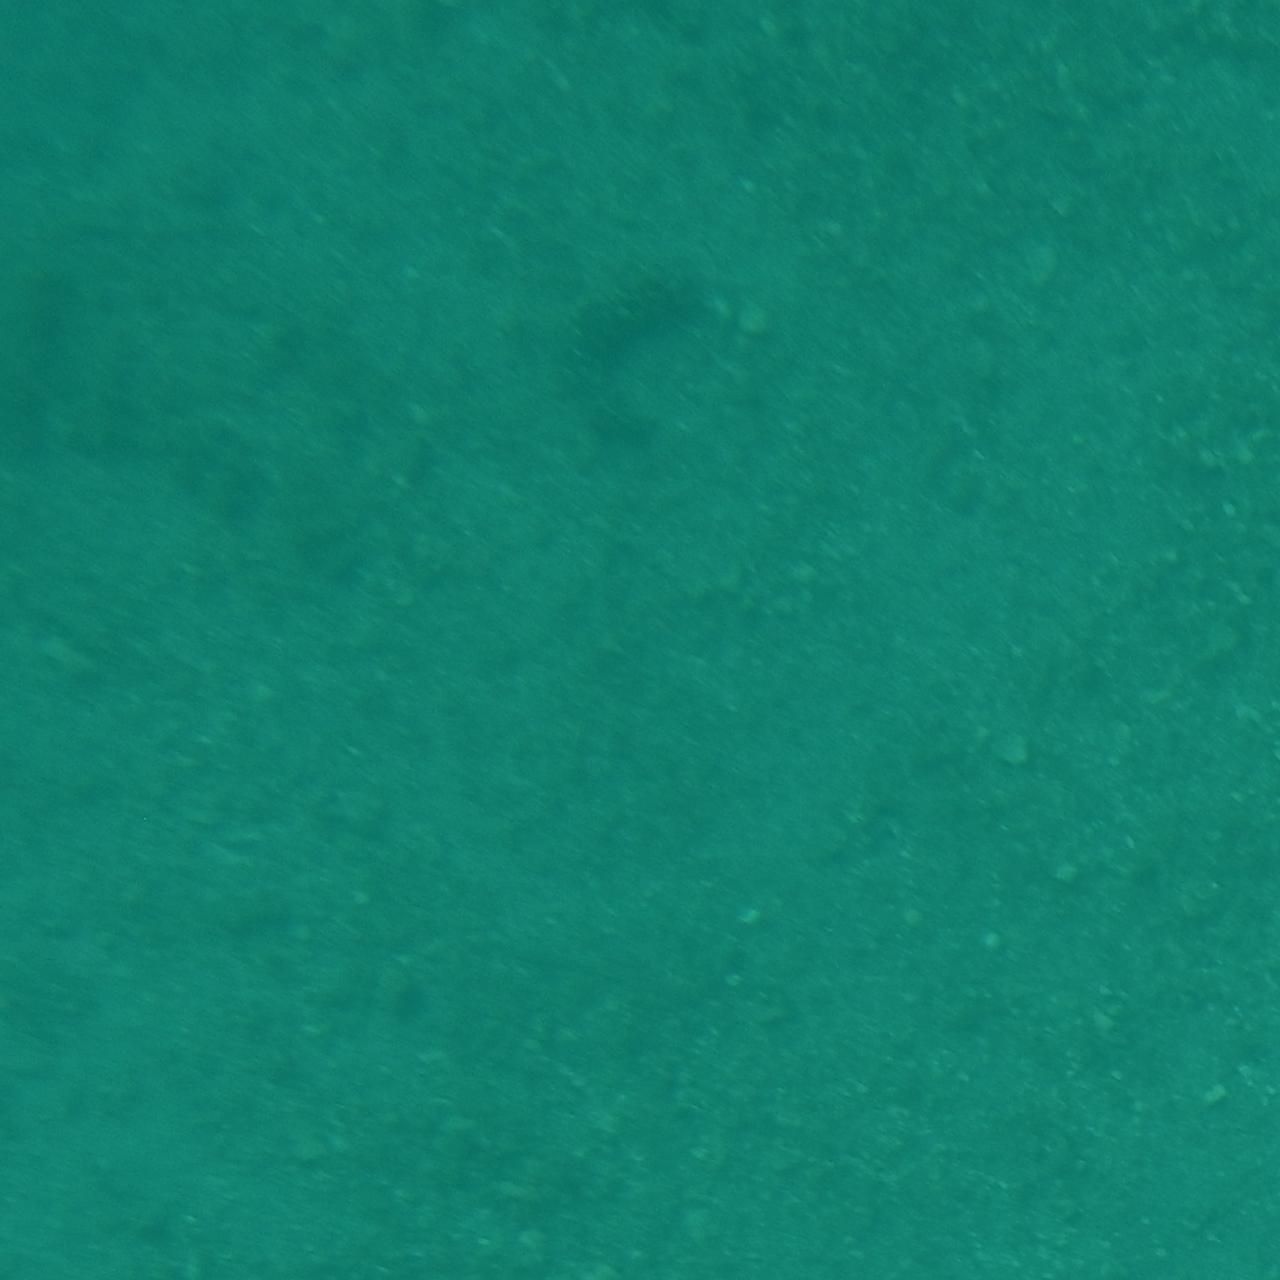Holothuria tubulosa: (549, 230, 731, 436)
